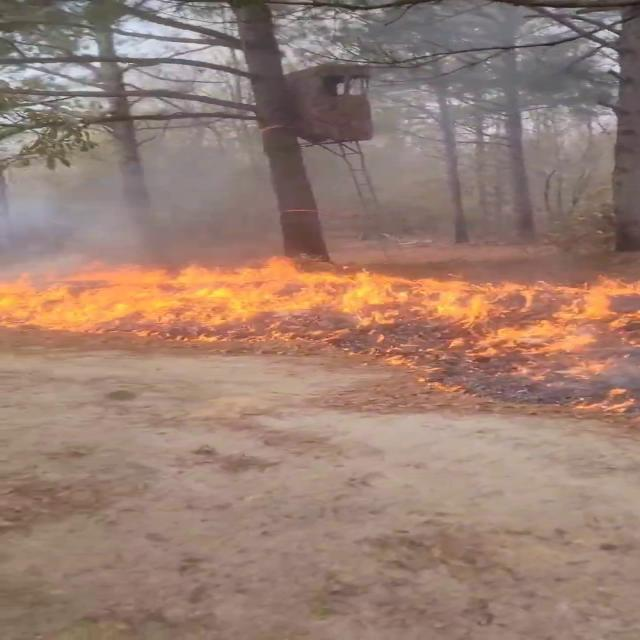Fire: (4, 248, 638, 369)
Smoke: (3, 114, 607, 262)
